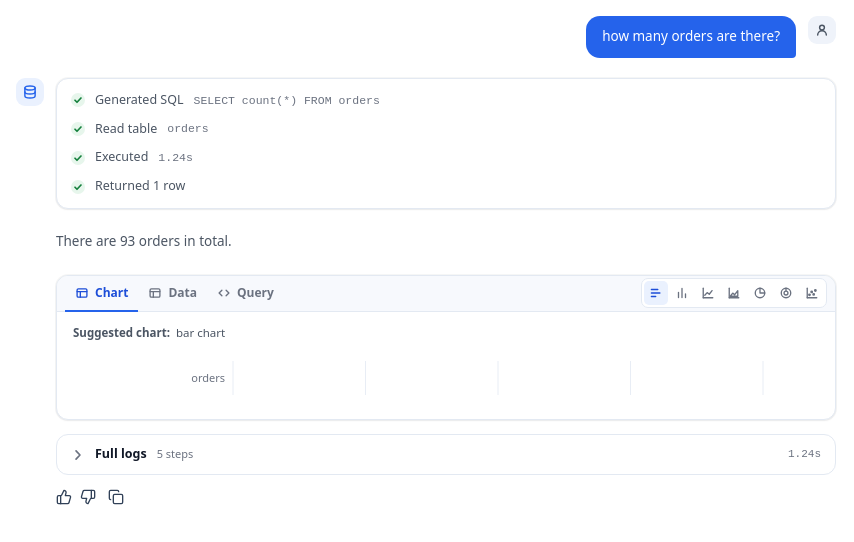
Test: Thread › renders the result card with the rows the query returned
The width and height of the screenshot is (854, 542).
Click the tab "Data".
click(173, 294)  # box 138,276 -> 207,312
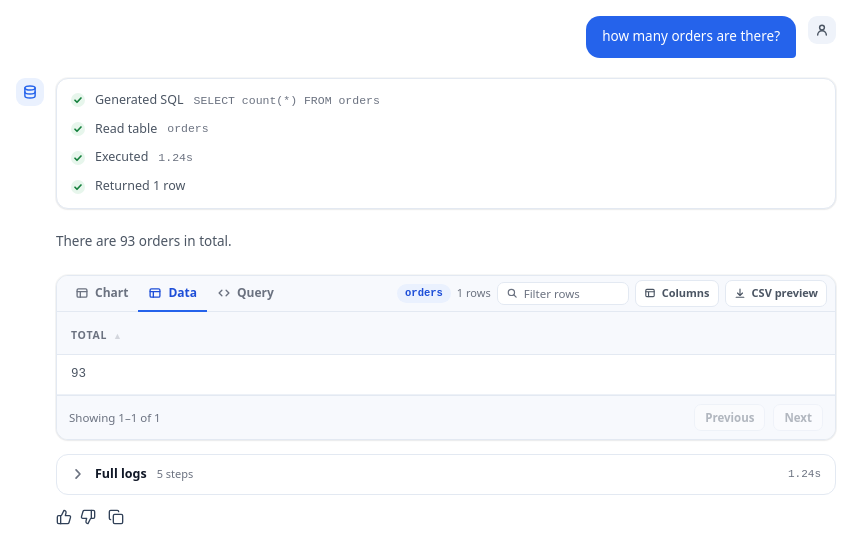
Result: the column heading "total ▲" is shown at 57,312 -> 835,354
Result: the cell "93" is shown at 57,354 -> 835,394
Result: the text "1 rows" is shown at 457,285 -> 491,302
